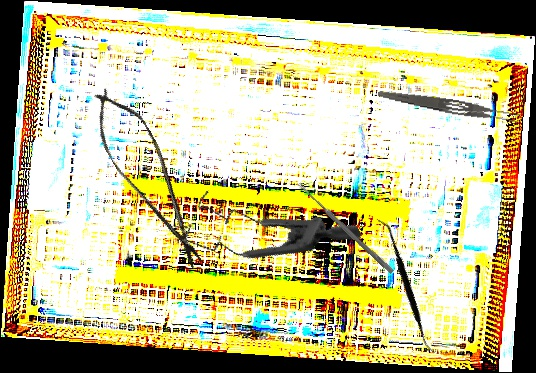Dressing Forceps: (376, 87, 522, 127)
Micro Scissor: (77, 77, 222, 279)
Spatula Surgical: (334, 218, 479, 355)
Speculum: (170, 136, 363, 311)
Surgical Spoon: (296, 181, 395, 275)
